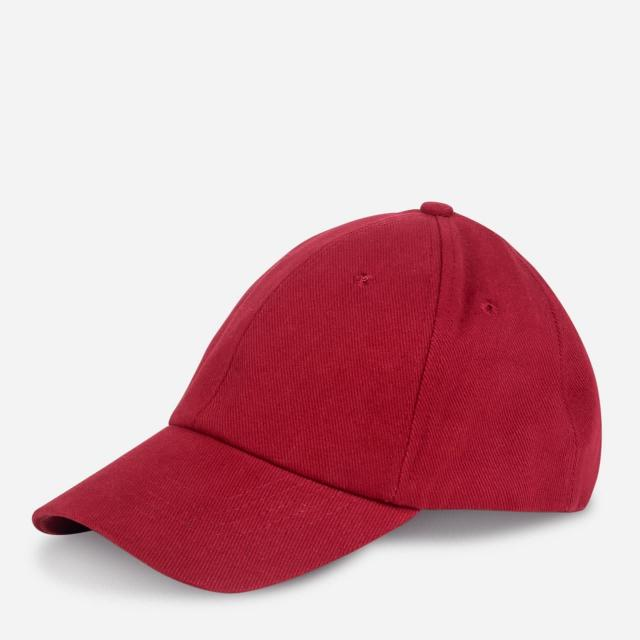mask: (32, 192, 606, 583)
